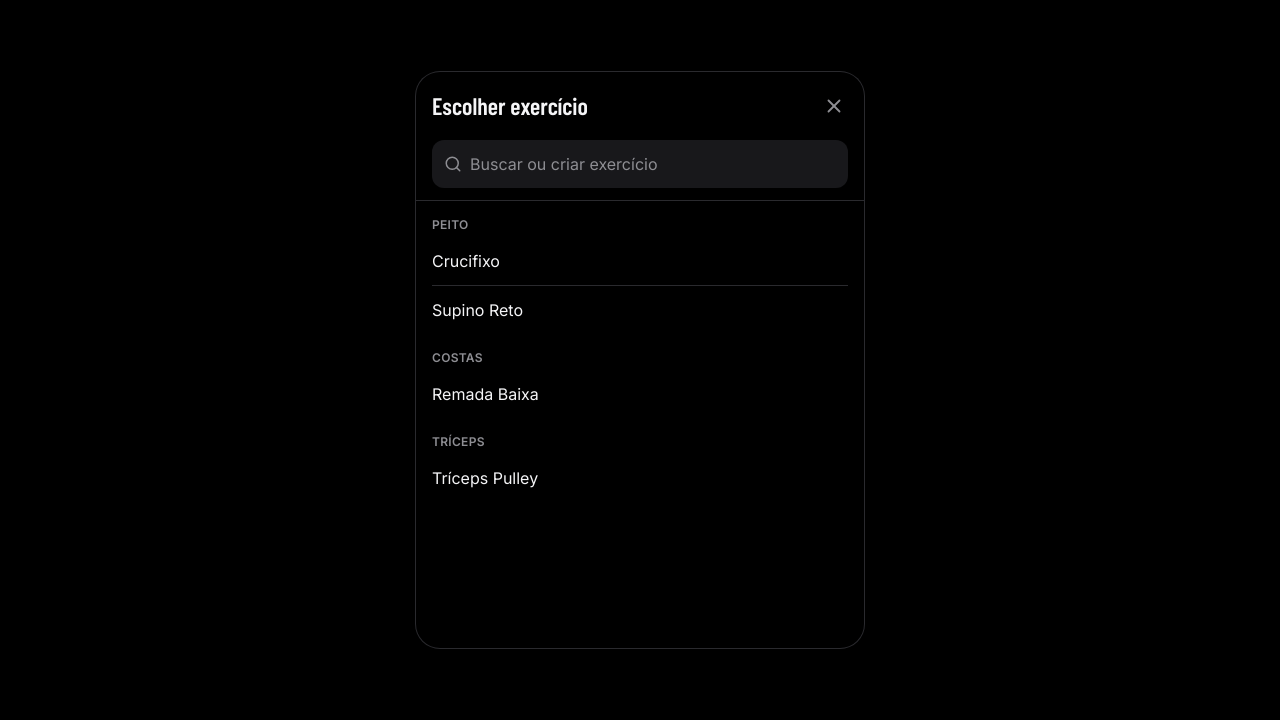
Test: ExercisePickerModal › erro ao criar mostra alerta
Expected: the text "Supino Reto" is shown, [432, 300, 523, 320]
Type "Novo exercício" into the search field named "Buscar exercício" at (653, 164), box [470, 140, 836, 188]
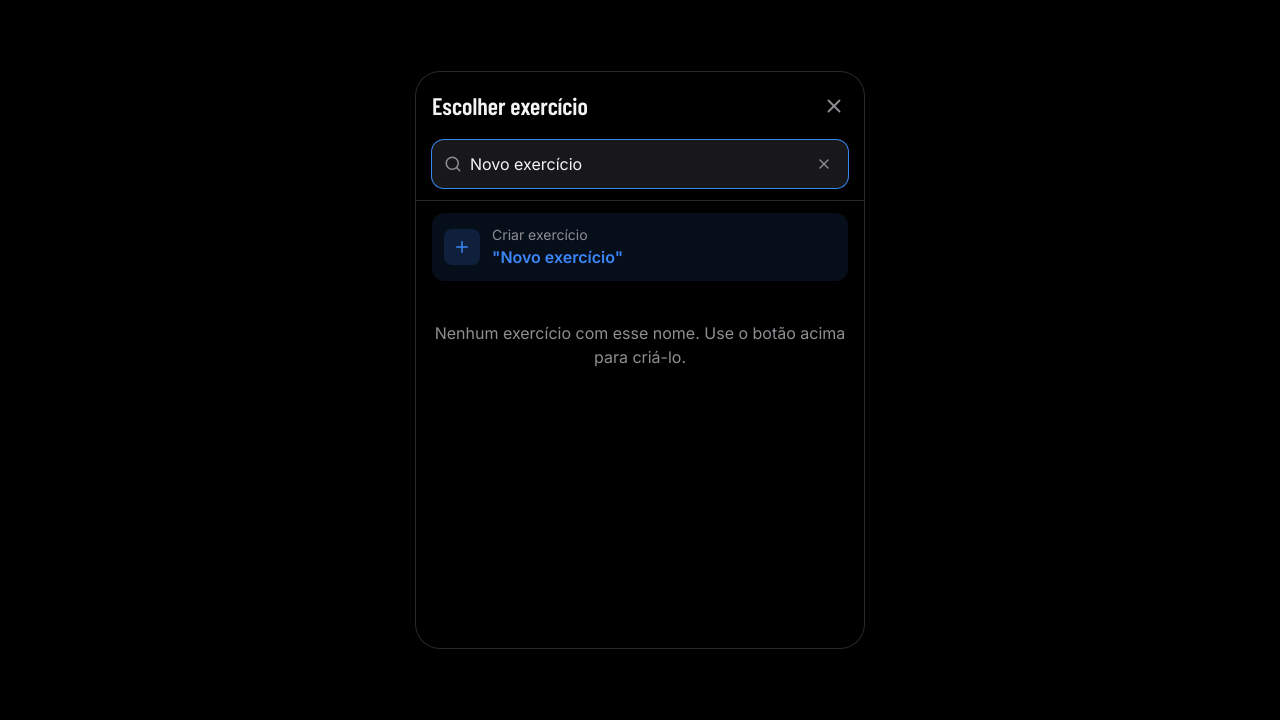
Click the button "Criar exercício \"Novo exercício\"" at (462, 247), box [432, 213, 848, 281]
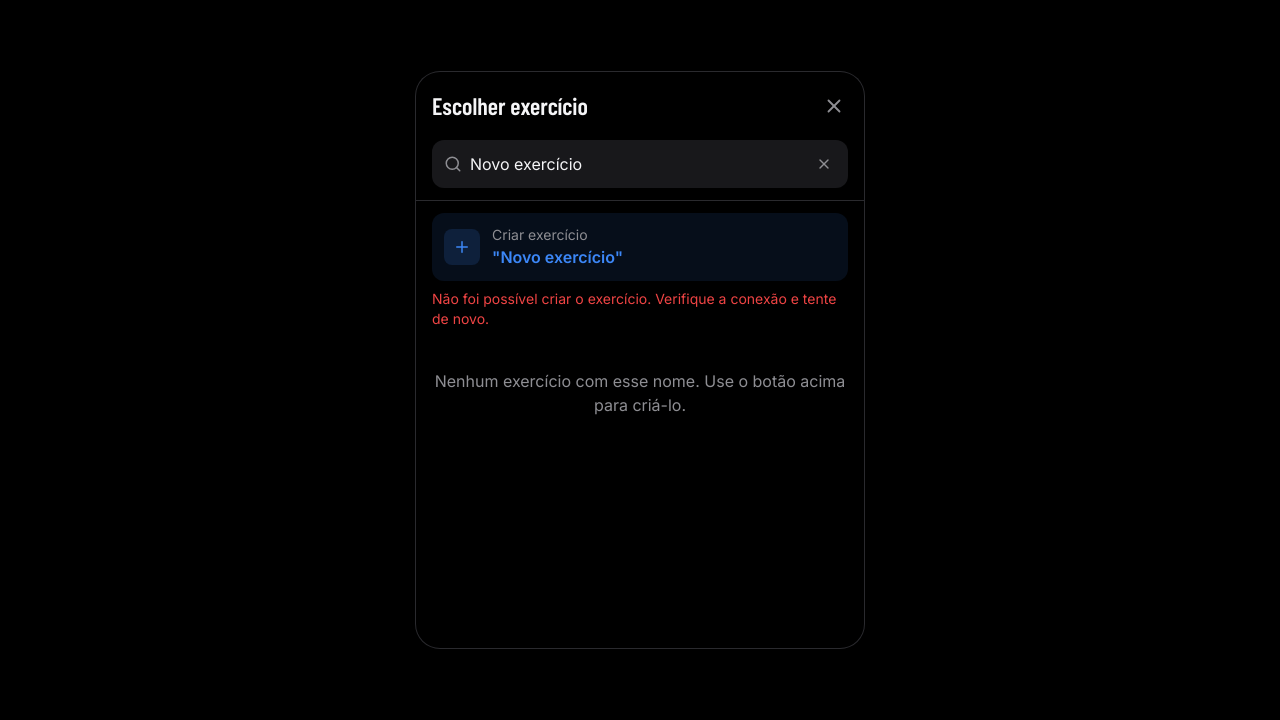
Now the message shows "Não foi possível criar", box [432, 290, 836, 327]
